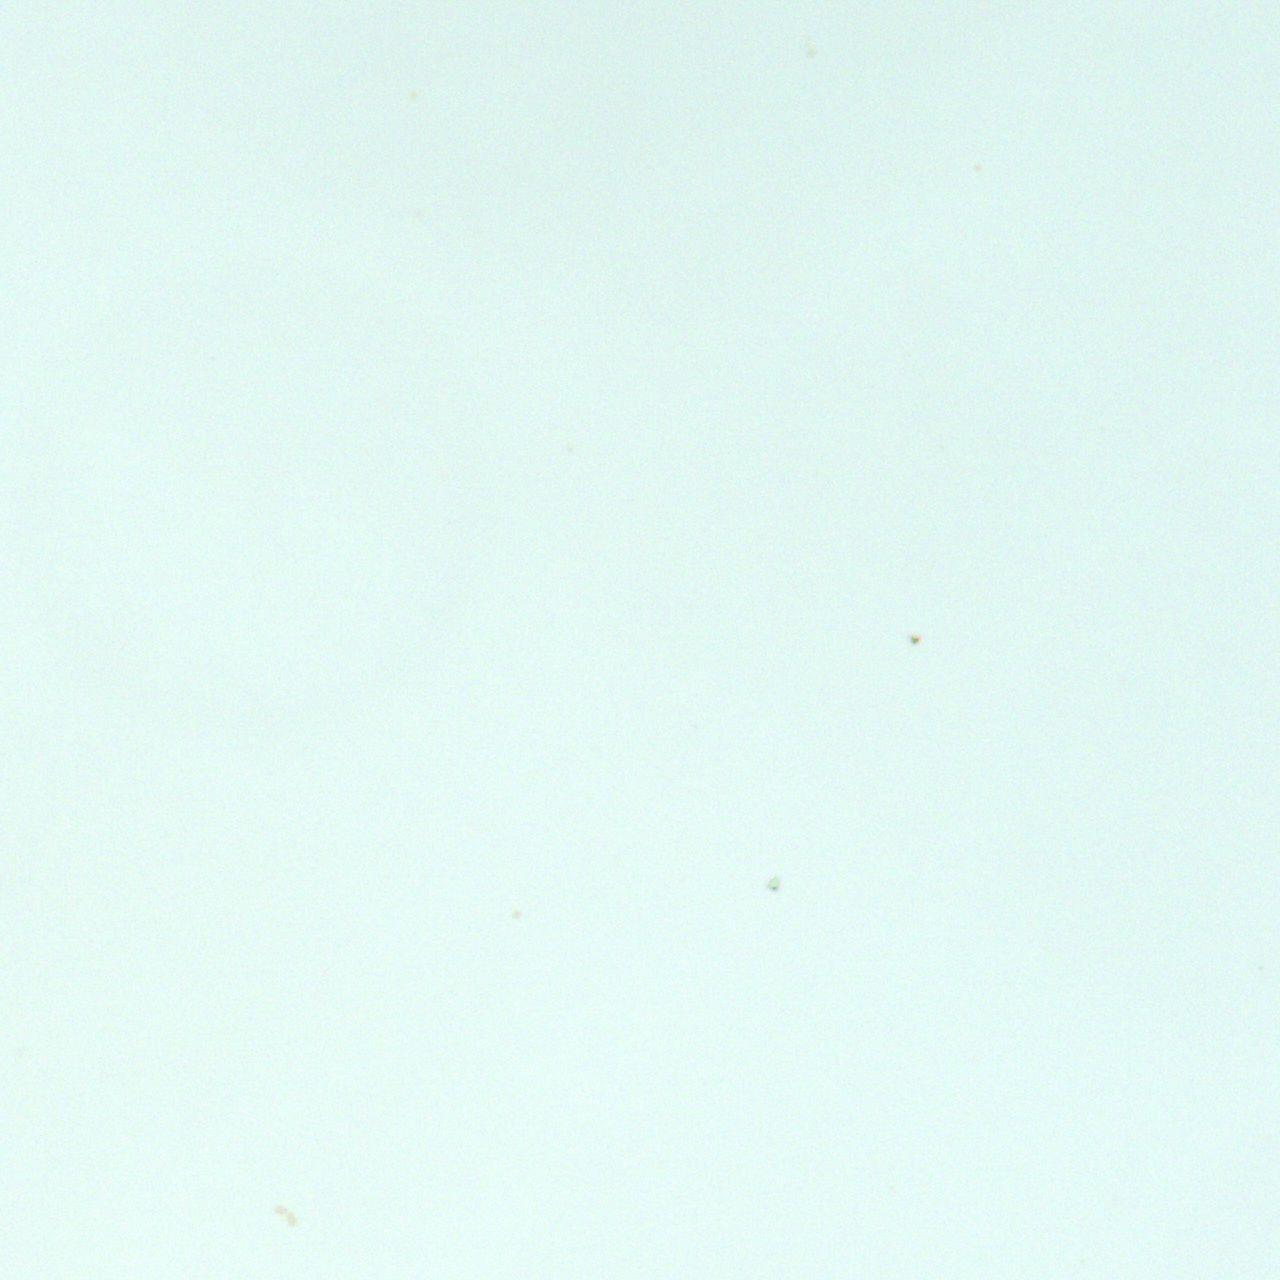dust: (767, 878, 779, 891), (908, 631, 920, 644)
